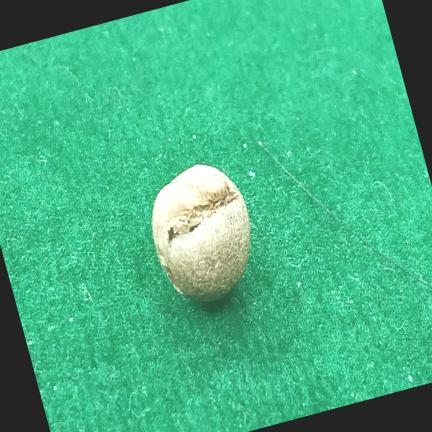cut: (151, 164, 250, 301)
